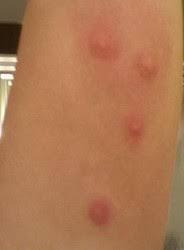Chiggers: (83, 28, 121, 62), (87, 197, 113, 226), (137, 54, 157, 79), (127, 121, 143, 136)
